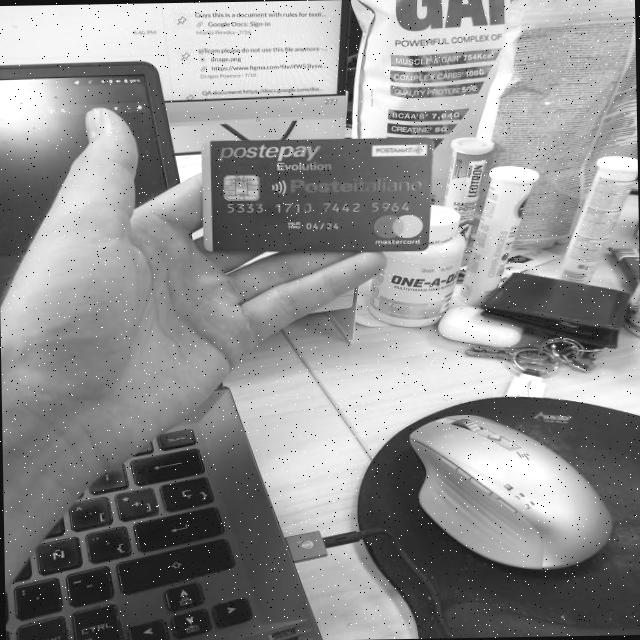card: (200, 137, 431, 254)
